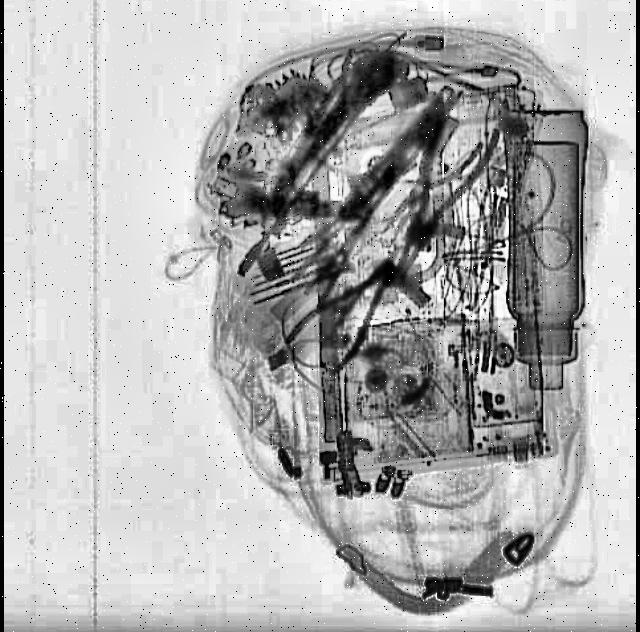Pliers: (369, 93, 505, 293), (282, 248, 412, 391)
